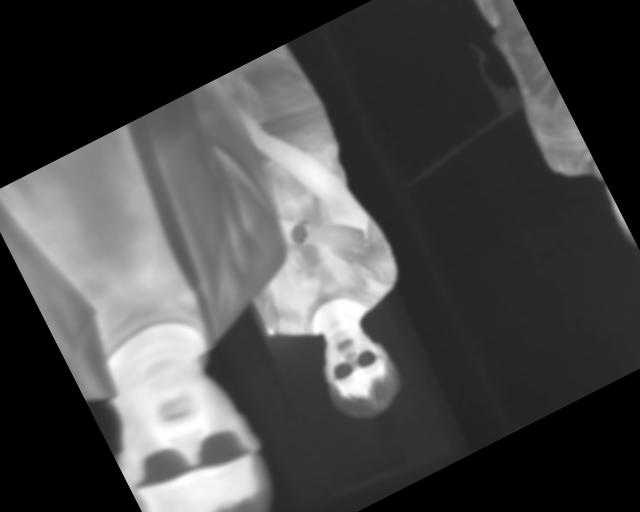face: (86, 340, 306, 512), (303, 311, 412, 431)
